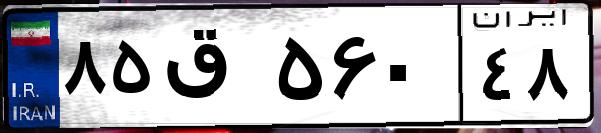0: (385, 28, 445, 110)
4: (475, 38, 525, 113)
5: (270, 28, 330, 110), (110, 28, 158, 98)
6: (330, 28, 385, 110)
8: (57, 26, 110, 100), (525, 38, 570, 115)
ق: (158, 20, 270, 120)
